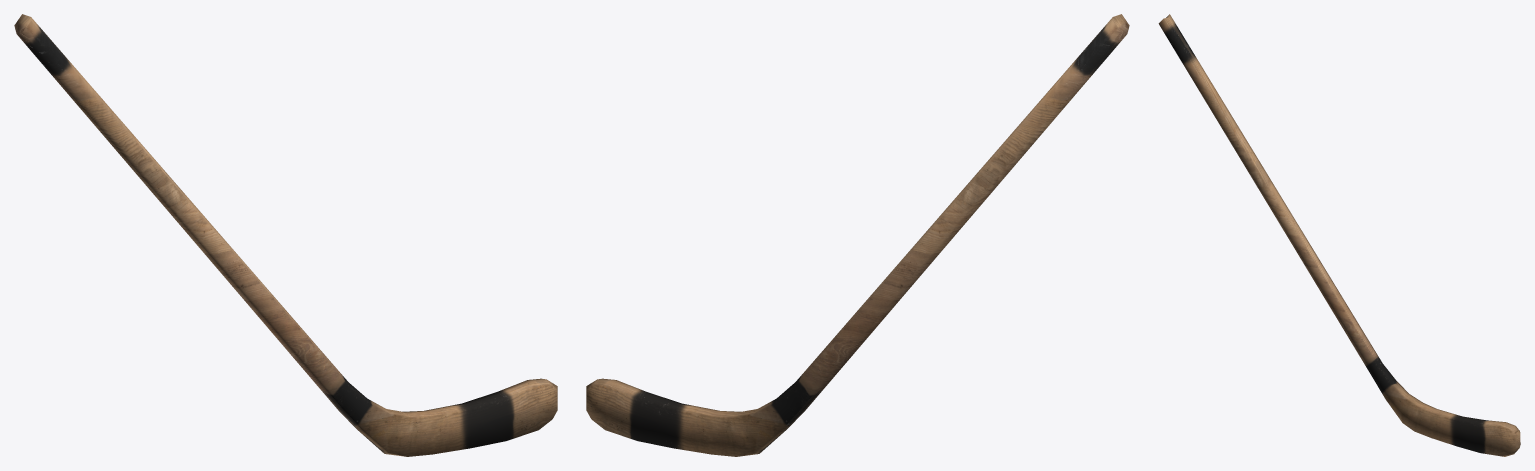
Rendered from hockeyStick.fbx.
3 views of the same model, side by side, from view 1: azimuth 30°, elevation 25°; view 2: azimuth 150°, elevation 25°; view 3: azimuth 330°, elevation 25° (orthographic). The views are drawn at different scales.
Visible parts, largest first — view 1: pCube3; view 2: pCube3; view 3: pCube3.
Part boxes in pixels (left/top/right/bottom): pCube3: left=14, top=14, right=557, bottom=456; pCube3: left=586, top=14, right=1129, bottom=456; pCube3: left=1158, top=14, right=1520, bottom=456.
Size of the model in its own units: 25.95 by 24.71 by 0.7577.
